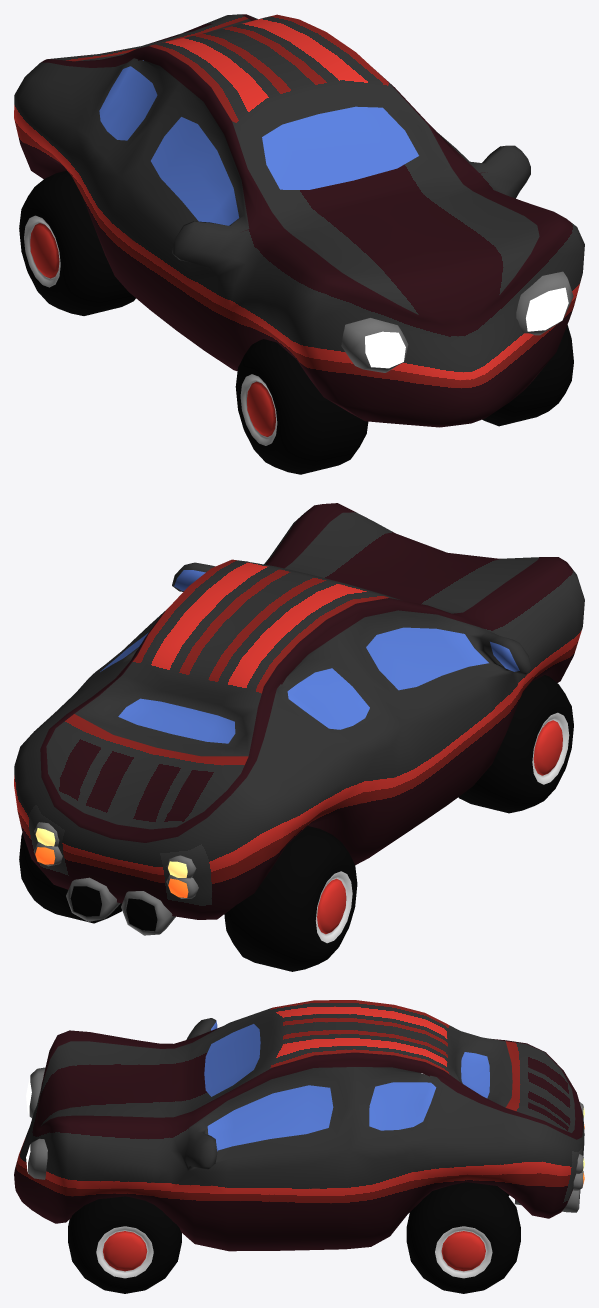
File: carB.gltf
The picture shows the model from 3 angles, top to bottom: view 1: azimuth 30°, elevation 25°; view 2: azimuth 150°, elevation 25°; view 3: azimuth 270°, elevation 25°; orthographic projection. The views are drawn at different scales.
Visible parts, largest first — view 1: Cube.001, Cylinder.002; view 2: Cube.001, Cylinder.002; view 3: Cube.001, Cylinder.002.
Part boxes in pixels (x1,y1,x2,y2): Cube.001: (14, 14, 584, 427); Cylinder.002: (19, 170, 573, 474); Cube.001: (14, 503, 584, 935); Cylinder.002: (19, 675, 573, 971); Cube.001: (14, 1000, 584, 1251); Cylinder.002: (68, 1182, 520, 1293).
Bounding box in the file's own units: 3.13 × 2.39 × 5.57.
1 material, 1 textured.
